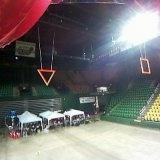Orange_Triangle_Gshape: (37, 70, 55, 85), (140, 57, 151, 74)
